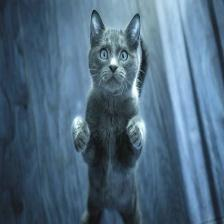kedo: (73, 10, 146, 223)
